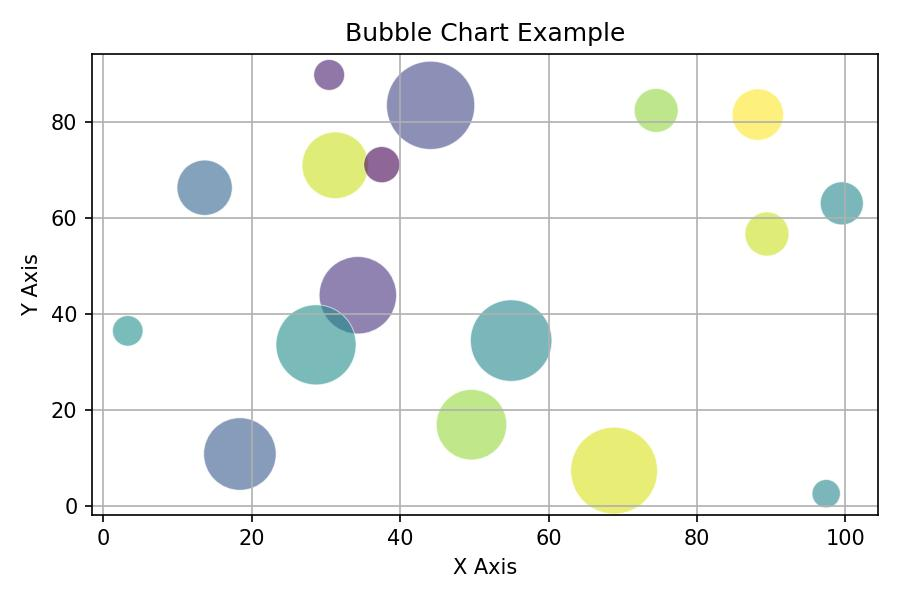axis: (93, 499, 885, 538), (69, 45, 106, 526)
circle: (386, 59, 476, 153), (570, 424, 660, 515), (469, 298, 553, 381), (319, 255, 398, 332), (204, 416, 278, 490), (435, 390, 508, 460), (300, 130, 368, 201), (730, 84, 788, 142), (179, 158, 233, 216), (818, 178, 867, 231), (632, 85, 681, 135), (745, 209, 791, 256), (811, 479, 841, 508)
